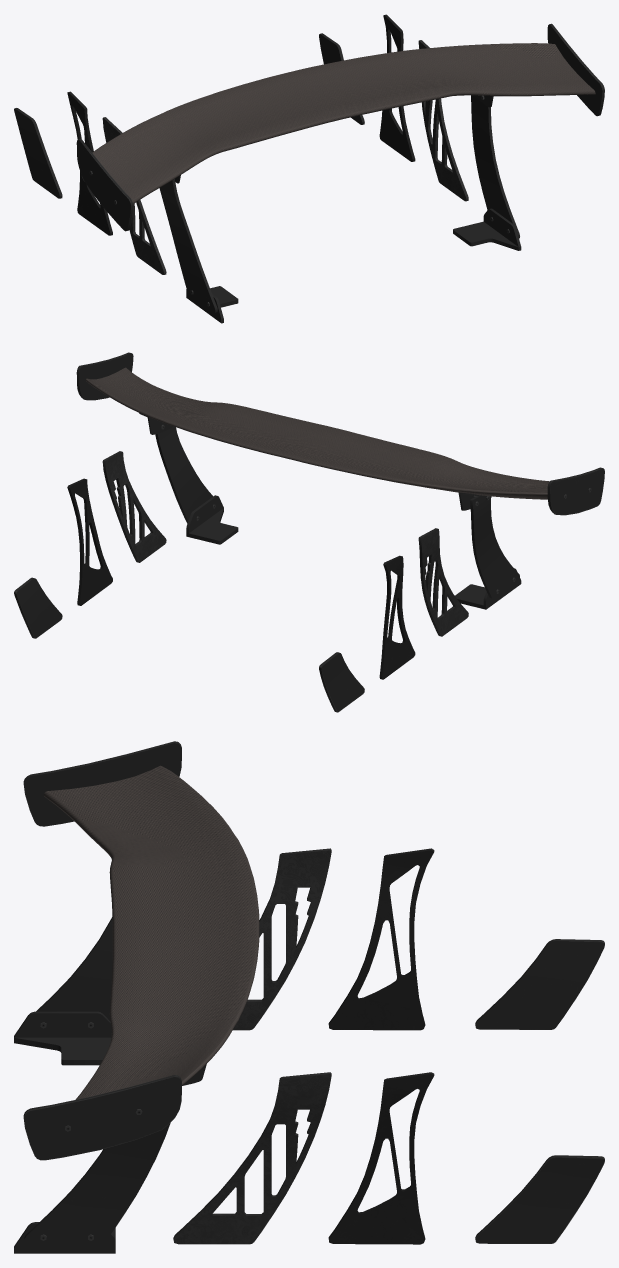
The model's file is big-country-labs-style-wing.glb.
3 renders of one model, top to bottom at view 1: azimuth 30°, elevation 25°; view 2: azimuth 150°, elevation 25°; view 3: azimuth 270°, elevation 25°, orthographic. The views are drawn at different scales.
Parts seen in each view (by area): view 1: bcl type wing.002_2, Box.004_5, bcl type wing.001_3, Box.003_6, Box.007_7, Box.001_9, Plane_8; view 2: bcl type wing.002_2, Box.003_6, Box.004_5, Box.007_7, bcl type wing.001_3, Box.001_9, Plane_8, bcl type wing.004_4; view 3: bcl type wing.002_2, Box.003_6, Box.007_7, bcl type wing.001_3, Box.001_9, Box.004_5, Plane_8.
Boxes of the visible parts, x1,y1,x2,y2 form: bcl type wing.002_2: (92,43,595,203); Box.004_5: (159,95,519,312); bcl type wing.001_3: (76,23,604,231); Box.003_6: (102,40,468,274); Box.007_7: (67,14,415,235); Box.001_9: (14,33,364,198); Plane_8: (186,208,521,323); bcl type wing.002_2: (86,367,549,499); Box.003_6: (102,451,468,636); Box.004_5: (155,426,519,598); Box.007_7: (67,478,415,679); bcl type wing.001_3: (76,352,604,515); Box.001_9: (14,577,364,712); Plane_8: (186,495,521,609); bcl type wing.004_4: (139,413,491,510); bcl type wing.002_2: (43,765,259,1099); Box.003_6: (173,848,331,1244); Box.007_7: (328,848,434,1244); bcl type wing.001_3: (23,741,181,1160); Box.001_9: (475,939,604,1243); Box.004_5: (24,917,170,1244); Plane_8: (14,1011,115,1253).
Size of the model in its own units: 6.76 by 2.23 by 5.02.
6 materials, 6 textured.
